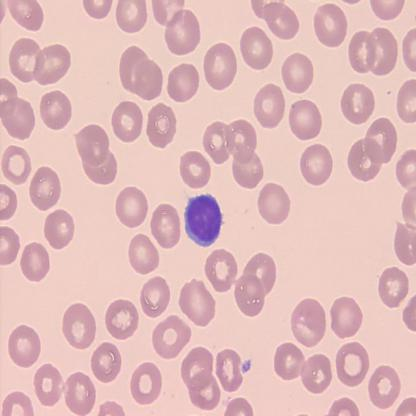Lymphocyte: (184, 192, 224, 247)
